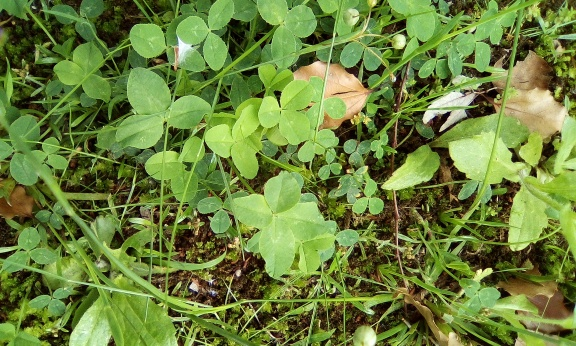4leaf: (230, 168, 328, 279)
